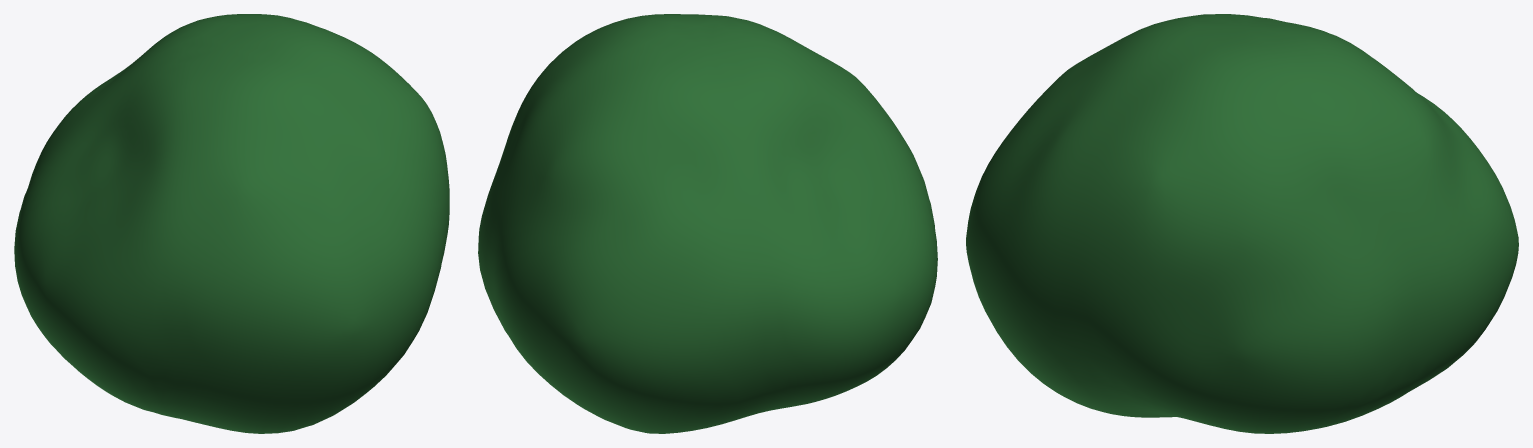
Rendered from pedra grande verde.fbx.
The picture shows the model from 3 angles, left to right: view 1: azimuth 30°, elevation 25°; view 2: azimuth 150°, elevation 25°; view 3: azimuth 270°, elevation 25°; orthographic projection. The views are drawn at different scales.
Visible parts, largest first — view 1: rock.001; view 2: rock.001; view 3: rock.001.
Boxes of the visible parts, bbox=[...] form: rock.001: bbox=[14, 14, 449, 433]; rock.001: bbox=[478, 14, 937, 433]; rock.001: bbox=[966, 14, 1518, 433].
Bounding box in the file's own units: 426 × 376 × 485.
